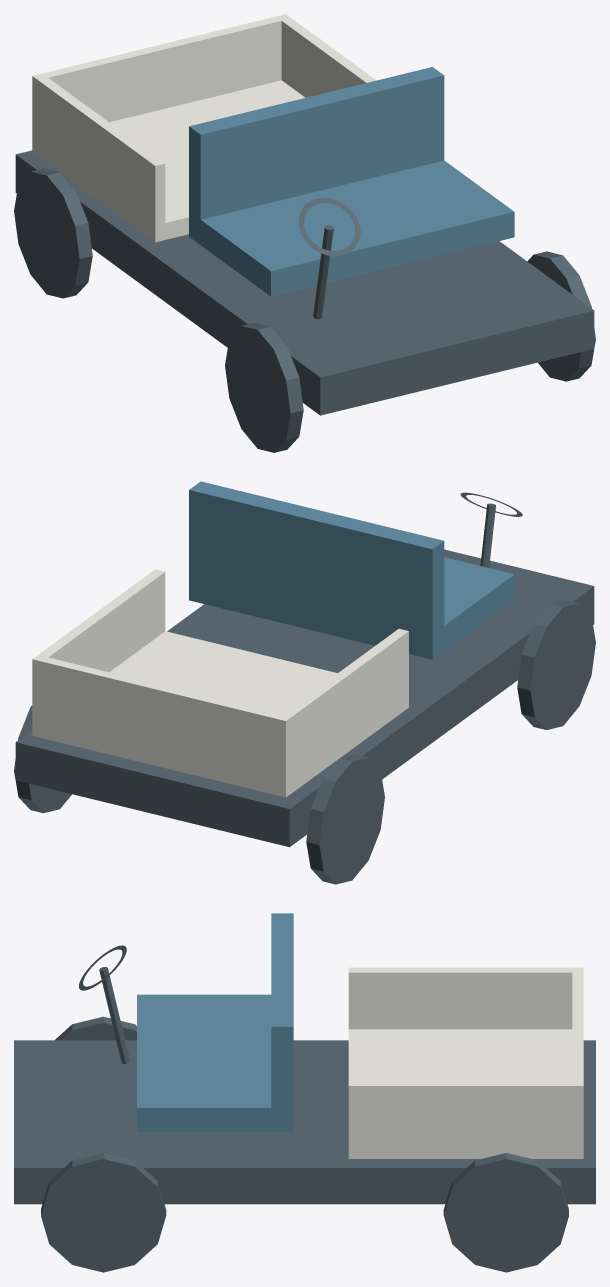
The model's file is american-football-stadium-kit-sideline-utility-cart-1a823287__22392.glb.
3 renders of one model, top to bottom at view 1: azimuth 30°, elevation 25°; view 2: azimuth 150°, elevation 25°; view 3: azimuth 270°, elevation 25°, orthographic. The views are drawn at different scales.
Parts seen in each view (by area): view 1: sideline-utility-cart, wheel--0.72--0.9, wheel--0.72-0.9, wheel-0.72-0.9; view 2: sideline-utility-cart, wheel--0.72--0.9, wheel--0.72-0.9, wheel-0.72--0.9; view 3: sideline-utility-cart, wheel-0.72--0.9, wheel-0.72-0.9, wheel--0.72-0.9.
Part boxes in pixels (x1,y1,x2,y2): sideline-utility-cart: [15, 14, 594, 415]; wheel--0.72--0.9: [14, 168, 92, 298]; wheel--0.72-0.9: [225, 322, 303, 452]; wheel-0.72-0.9: [527, 251, 595, 381]; sideline-utility-cart: [15, 481, 594, 847]; wheel--0.72--0.9: [306, 754, 384, 884]; wheel--0.72-0.9: [517, 600, 595, 729]; wheel-0.72--0.9: [14, 705, 71, 813]; sideline-utility-cart: [14, 913, 595, 1204]; wheel-0.72--0.9: [443, 1153, 568, 1272]; wheel-0.72-0.9: [41, 1153, 166, 1272]; wheel--0.72-0.9: [55, 1016, 136, 1040].
Size of the model in its own units: 1.51 by 1.14 by 2.6.
